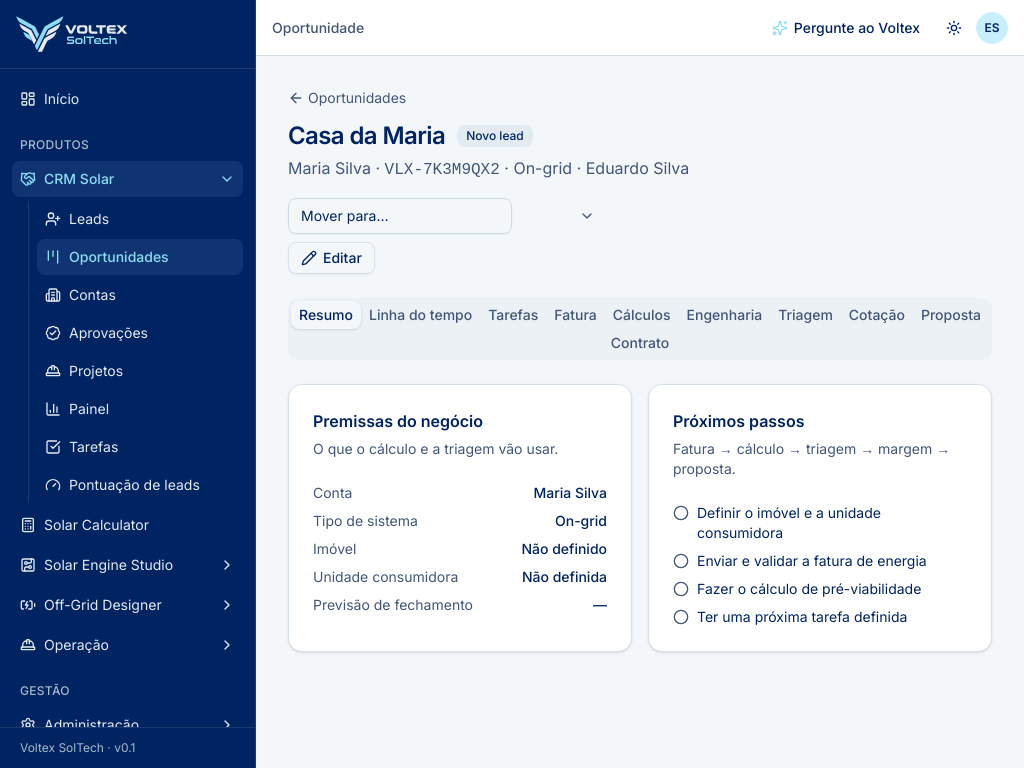
Test: Oportunidade · Linha do tempo › mostra os fatos, do mais novo ao mais antigo, com tipo, autor e texto
Click the tab "Linha do tempo" at (421, 315), box top-left (361, 301), bottom-right (480, 329)
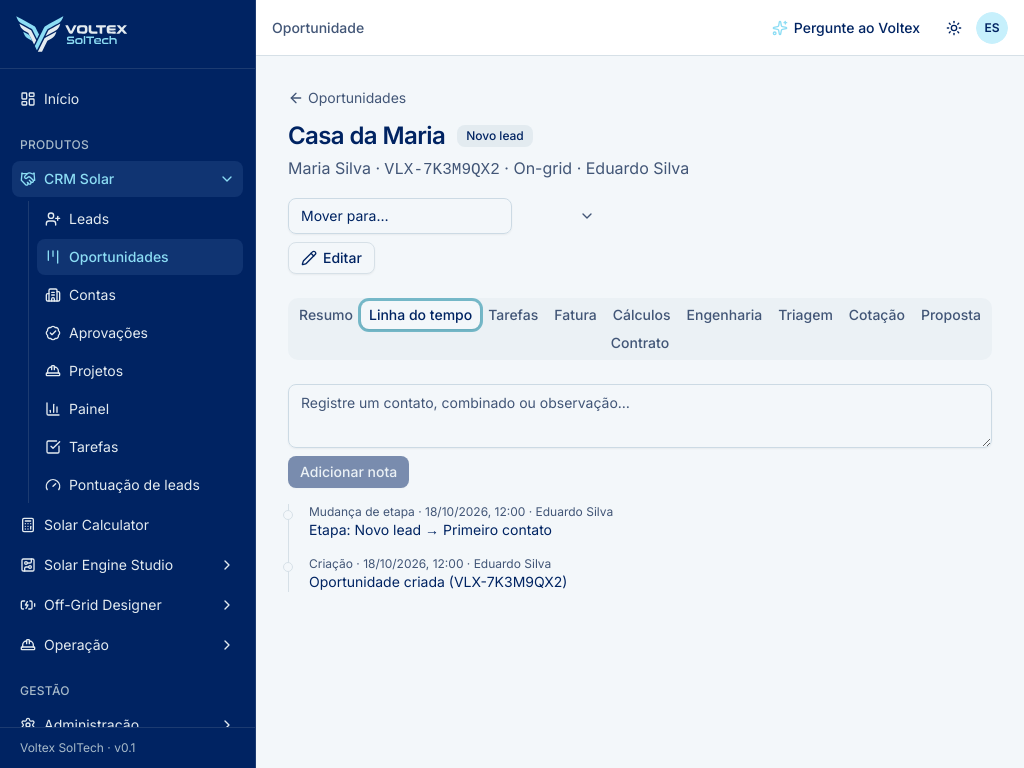
expect the text "Etapa: Novo lead → Primeiro contato" is shown: met, box top-left (309, 521), bottom-right (552, 538)
expect the text "Oportunidade criada (VLX-7K3M9QX2)" is shown: met, box top-left (309, 573), bottom-right (567, 590)
expect the text "Mudança de etapa · 18/10/2026, 12:00 · Eduardo Silva" is shown: met, box top-left (309, 504), bottom-right (613, 519)
